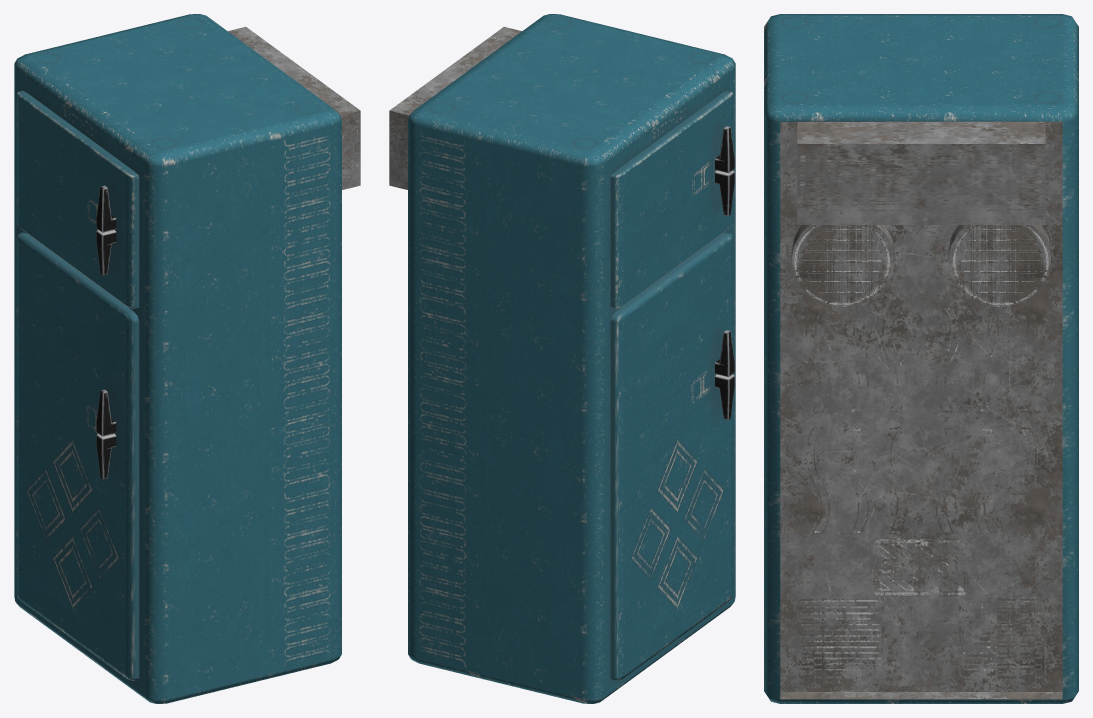
File: refrigerator.glb
The picture shows the model from 3 angles, left to right: view 1: azimuth 30°, elevation 25°; view 2: azimuth 150°, elevation 25°; view 3: azimuth 270°, elevation 25°; orthographic projection. The views are drawn at different scales.
Parts seen in each view (by area): view 1: g; view 2: g; view 3: g.
Boxes of the visible parts, bbox=[...] form: g: bbox=[14, 14, 360, 703]; g: bbox=[389, 14, 735, 703]; g: bbox=[764, 14, 1078, 703].
Size of the model in its own units: 0.2773 by 0.6 by 0.2852.
Materials: 1 (1 with a texture image).
